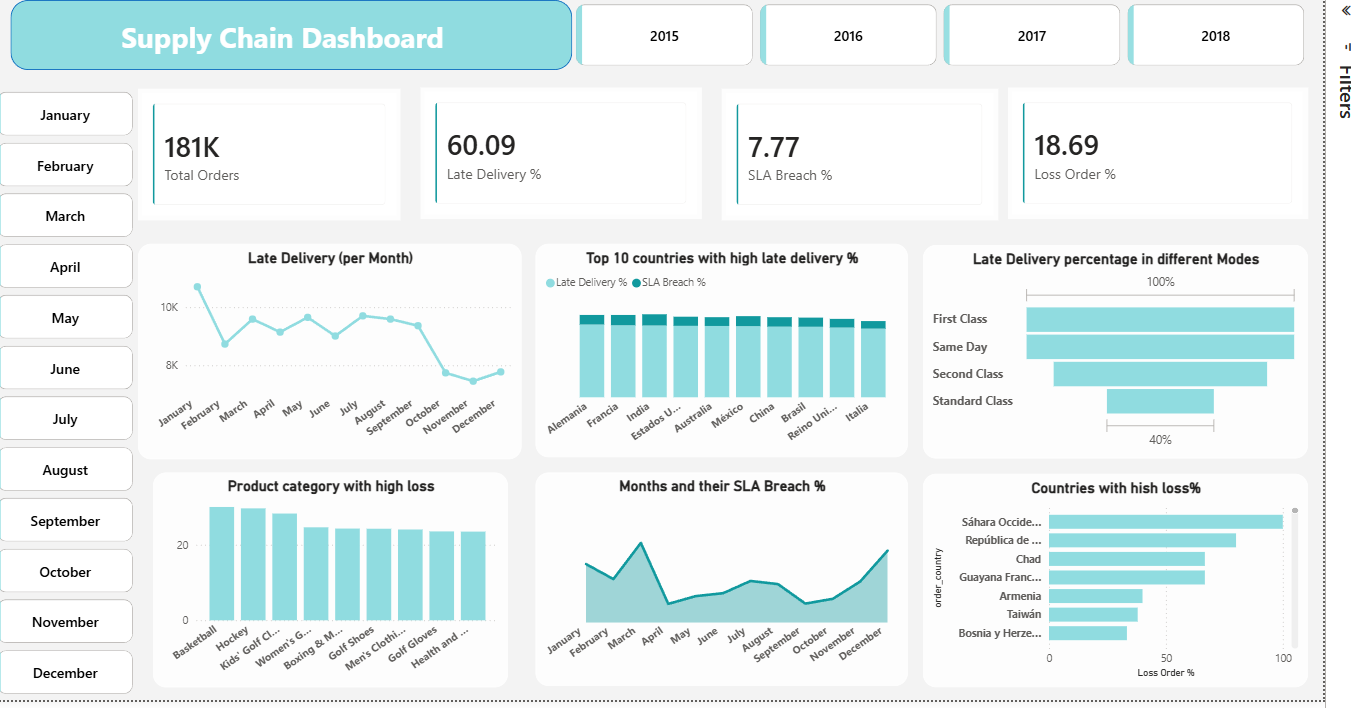

The dashboard page shown, as its layout file describes it:
{"tool":"powerbi","page":{"name":"DashBoard","canvas":[1520,800],"ordinal":0},"visuals":[{"type":"shape","box":[20,0,642,80],"z":0},{"type":"advancedSlicerVisual","fields":{"Values":["supplychaindatabase v_dim_date.date_id.Variation.Date Hierarchy.Month"]},"box":[0,100,165.7,700],"z":1000},{"type":"advancedSlicerVisual","fields":{"Values":["supplychaindatabase v_dim_date.year"]},"box":[662,0,842,80],"z":2000},{"type":"textbox","box":[0,0,661.7,80],"z":3000},{"type":"lineChart","title":"Late Delivery (per Month)","fields":{"Category":["supplychaindatabase v_dim_date.date_id.Variation.Date Hierarchy.Month"],"Y":["Sum(supplychaindatabase v_order_delivery_flags.is_late_delivery)"]},"box":[166,278,438,246],"z":4000},{"type":"columnChart","title":"Top 10 countries with high late delivery %","fields":{"Category":["supplychaindatabase v_dim_shipping.order_country"],"Y":["supplychaindatabase v_dim_customer.Late Delivery %","supplychaindatabase v_dim_customer.SLA Breach %"]},"box":[620,278.6,425.7,244.3],"z":5000},{"type":"funnel","title":"Late Delivery percentage in different Modes","fields":{"Y":["supplychaindatabase v_dim_customer.Late Delivery %"],"Category":["supplychaindatabase v_dim_shipping.shipping_mode"]},"box":[1062.9,280,440,244.3],"z":6000},{"type":"clusteredColumnChart","title":"Product category with high loss ","fields":{"Y":["supplychaindatabase v_dim_customer.Loss Order %"],"Category":["supplychaindatabase v_dim_product.category_name"]},"box":[182.9,540,405.7,245.7],"z":7000},{"type":"stackedAreaChart","title":"Months and their SLA Breach %","fields":{"Y":["supplychaindatabase v_dim_customer.SLA Breach %"],"Category":["supplychaindatabase v_dim_date.date_id.Variation.Date Hierarchy.Month"]},"box":[620,540,425.7,244.3],"z":8000},{"type":"clusteredBarChart","title":"Countries with hish loss%","fields":{"Category":["supplychaindatabase v_dim_shipping.order_country"],"Y":["supplychaindatabase v_dim_customer.Loss Order %"]},"box":[1062.9,541.4,440,244.3],"z":9000},{"type":"cardVisual","fields":{"Data":["supplychaindatabase v_dim_customer.Loss Order %"]},"box":[1160,100,342.9,150],"z":10000},{"type":"cardVisual","fields":{"Data":["supplychaindatabase v_dim_customer.SLA Breach %"]},"box":[832.9,101.4,315.7,150],"z":11000},{"type":"cardVisual","fields":{"Data":["supplychaindatabase v_dim_customer.Late Delivery %"]},"box":[488.6,100,321.4,150],"z":12000},{"type":"cardVisual","fields":{"Data":["supplychaindatabase v_dim_customer.Total Orders"]},"box":[165.7,101.4,300,150],"z":13000}]}

Visuals, with their boxes in screenshot pixels (x1, y1, x2, y2), scaled from the page's 1520x800 canvas onto the 1351x708 screenshot:
shape: 18,0,588,71
advancedSlicerVisual - supplychaindatabase v_dim_date.date_id.Variation.Date Hierarchy.Month: 0,88,147,707
advancedSlicerVisual - supplychaindatabase v_dim_date.year: 588,0,1337,71
textbox: 0,0,588,71
"Late Delivery (per Month)" lineChart: 148,246,537,464
"Top 10 countries with high late delivery %" columnChart: 551,247,929,463
"Late Delivery percentage in different Modes" funnel: 945,248,1336,464
"Product category with high loss " clusteredColumnChart: 163,478,523,695
"Months and their SLA Breach %" stackedAreaChart: 551,478,929,694
"Countries with hish loss%" clusteredBarChart: 945,479,1336,695
cardVisual - supplychaindatabase v_dim_customer.Loss Order %: 1031,88,1336,221
cardVisual - supplychaindatabase v_dim_customer.SLA Breach %: 740,90,1021,222
cardVisual - supplychaindatabase v_dim_customer.Late Delivery %: 434,88,720,221
cardVisual - supplychaindatabase v_dim_customer.Total Orders: 147,90,414,222
